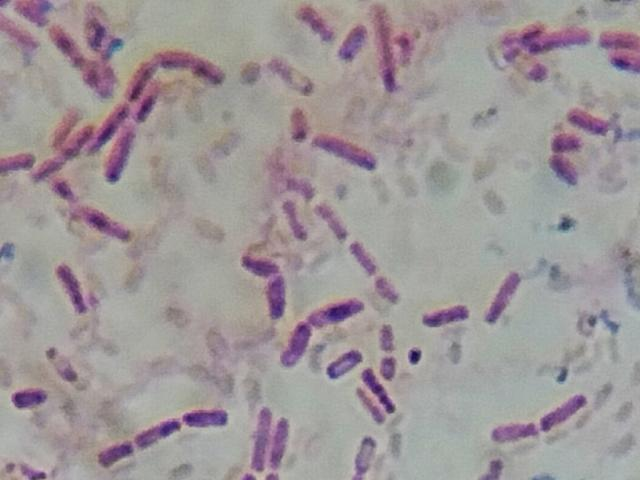E. coli: (56, 30, 112, 95), (243, 252, 287, 318), (372, 8, 407, 88), (539, 387, 595, 434), (0, 0, 45, 56), (314, 131, 378, 170), (80, 204, 132, 243), (159, 48, 221, 80), (485, 270, 520, 326), (304, 292, 358, 325), (266, 404, 292, 470), (424, 299, 474, 333), (107, 134, 136, 192), (274, 319, 311, 363), (135, 414, 184, 447), (59, 261, 89, 312), (46, 342, 81, 383), (489, 416, 538, 445), (287, 101, 317, 148), (349, 237, 386, 275), (335, 17, 366, 62), (535, 30, 592, 54), (317, 204, 349, 245), (363, 369, 396, 408), (10, 382, 52, 410), (185, 402, 228, 429), (281, 196, 306, 242), (137, 88, 168, 124), (570, 106, 609, 134), (326, 341, 357, 375), (96, 107, 121, 149), (254, 398, 268, 473), (126, 57, 152, 97), (352, 388, 378, 428), (94, 441, 140, 463), (355, 428, 376, 472), (45, 110, 79, 137), (548, 157, 576, 189), (36, 156, 69, 183), (65, 129, 93, 160), (370, 278, 402, 304), (548, 130, 575, 159), (0, 148, 32, 170), (377, 316, 397, 350), (614, 52, 640, 77), (302, 4, 323, 34), (384, 355, 399, 380)
